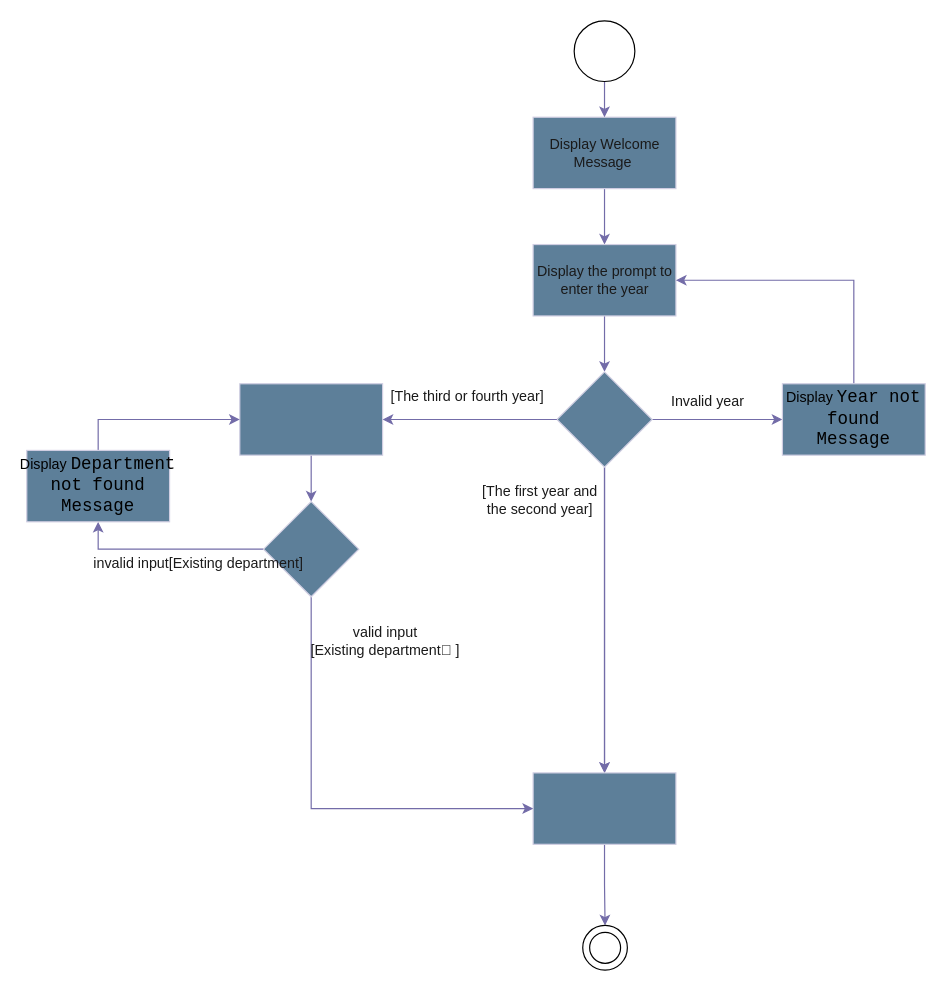
Image size: 946x991. Some labels were removed from this diagram. The shapes that lost their labels are listed below. From the top down, each one's centre as x and y in pixels, then its label:
the point at 311,419: Ask the user about the department
the point at 604,808: View the list of tools for the selected year and [department]
